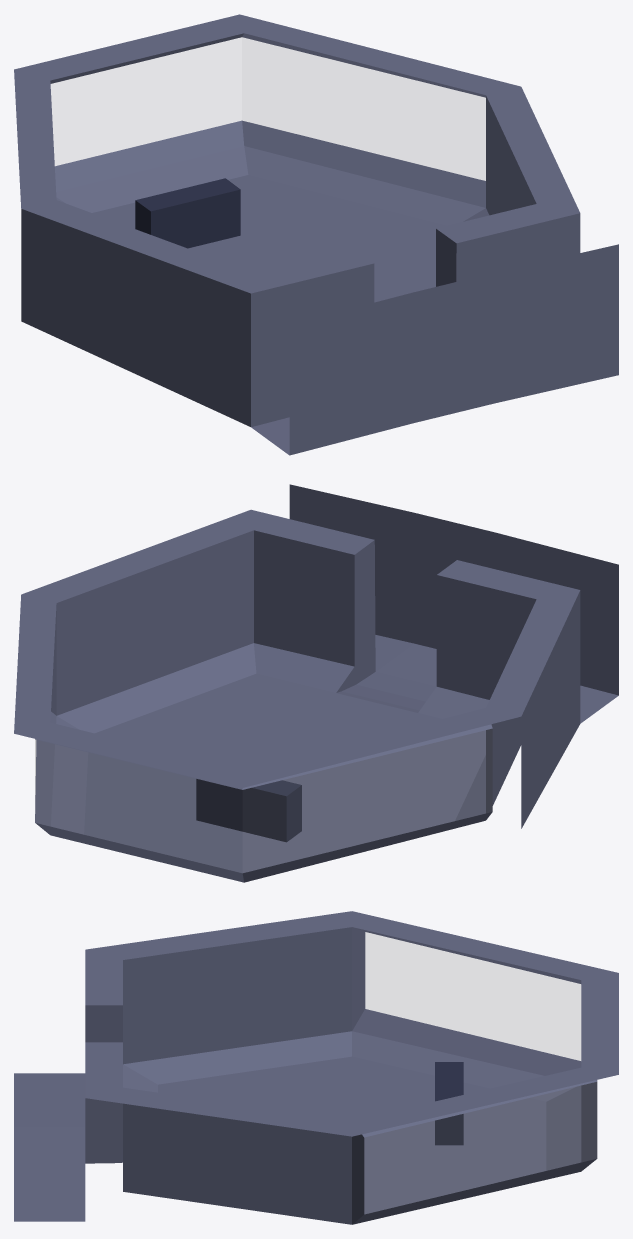
Rendered from star treck captain bridge.fbx.
3 renders of one model, top to bottom at view 1: azimuth 30°, elevation 25°; view 2: azimuth 150°, elevation 25°; view 3: azimuth 270°, elevation 25°, orthographic. The views are drawn at different scales.
Visible parts, largest first — view 1: CaptainBridge.001; view 2: CaptainBridge.001; view 3: CaptainBridge.001.
Boxes of the visible parts, x1,y1,x2,y2 form: CaptainBridge.001: (14,14,618,455); CaptainBridge.001: (14,484,618,882); CaptainBridge.001: (14,911,618,1224).
Size of the model in its own units: 24.36 by 6.23 by 27.62.
